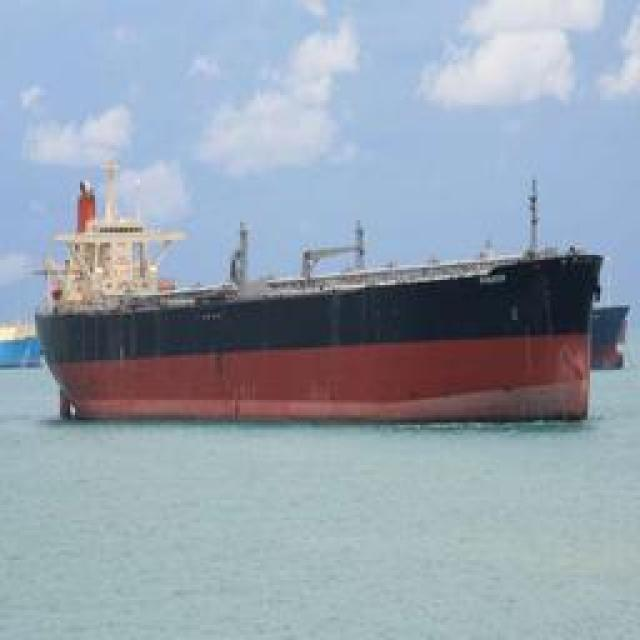CIV_Ship: (29, 188, 604, 428)
